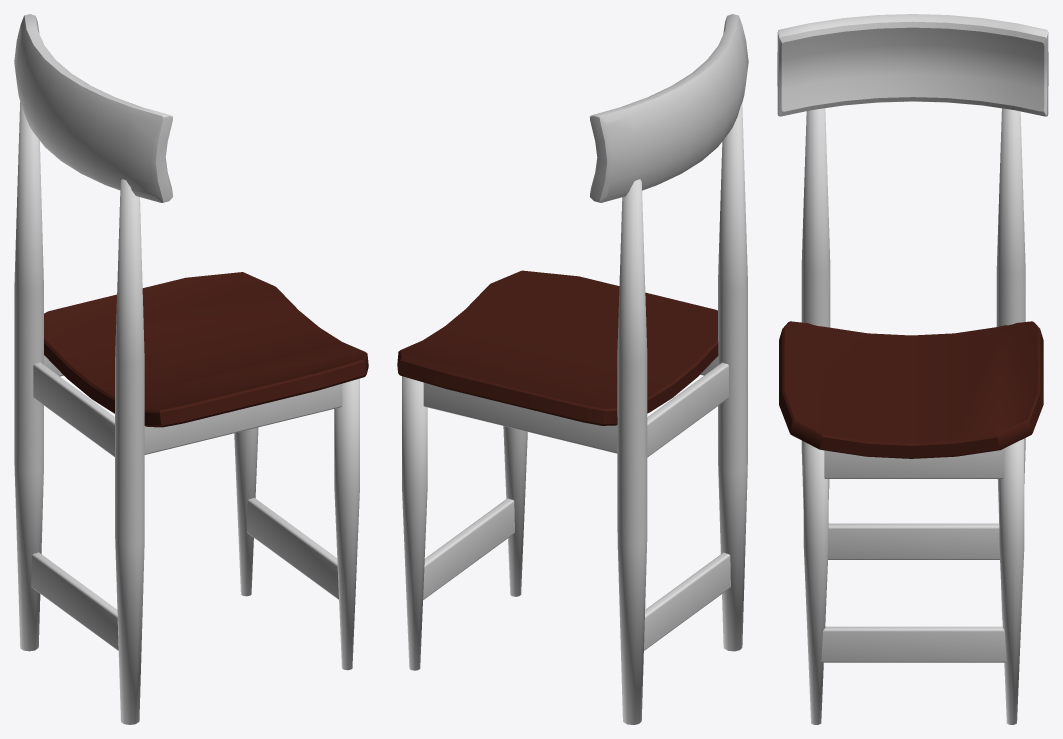
File: Sedia.fbx
The picture shows the model from 3 angles, left to right: view 1: azimuth 30°, elevation 25°; view 2: azimuth 150°, elevation 25°; view 3: azimuth 270°, elevation 25°; orthographic projection. The views are drawn at different scales.
Parts seen in each view (by area): view 1: GambaDietro; view 2: GambaDietro; view 3: GambaDietro.
Boxes of the visible parts, x1,y1,x2,y2 form: GambaDietro: [14, 14, 368, 724]; GambaDietro: [397, 14, 748, 724]; GambaDietro: [777, 14, 1048, 724].
Size of the model in its own units: 45.89 by 100 by 41.17.
